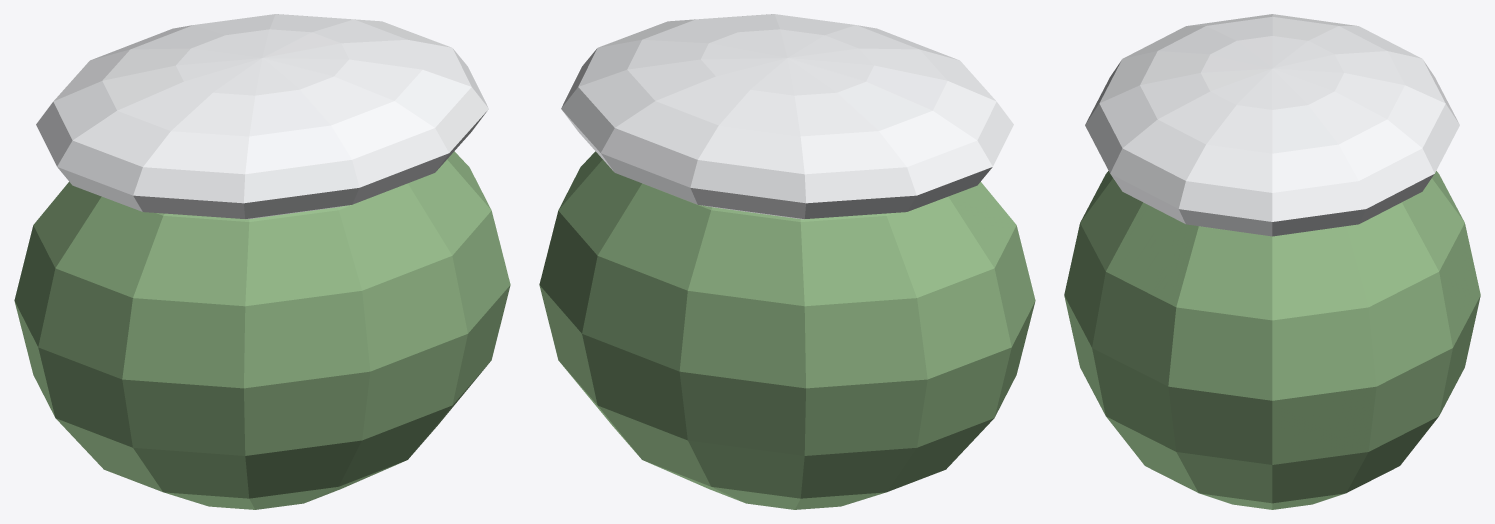
The model's file is snow_shrub.glb.
The picture shows the model from 3 angles, left to right: view 1: azimuth 30°, elevation 25°; view 2: azimuth 150°, elevation 25°; view 3: azimuth 270°, elevation 25°; orthographic projection. The views are drawn at different scales.
Parts seen in each view (by area): view 1: shrub, snow; view 2: shrub, snow; view 3: shrub, snow.
Boxes of the visible parts, <box> form: shrub: <box>14,151,510,509</box>; snow: <box>36,14,488,219</box>; shrub: <box>539,151,1035,509</box>; snow: <box>561,14,1013,219</box>; shrub: <box>1064,171,1480,509</box>; snow: <box>1085,14,1459,236</box>.
Bounding box in the file's own units: 1.2 × 1.1 × 1.
